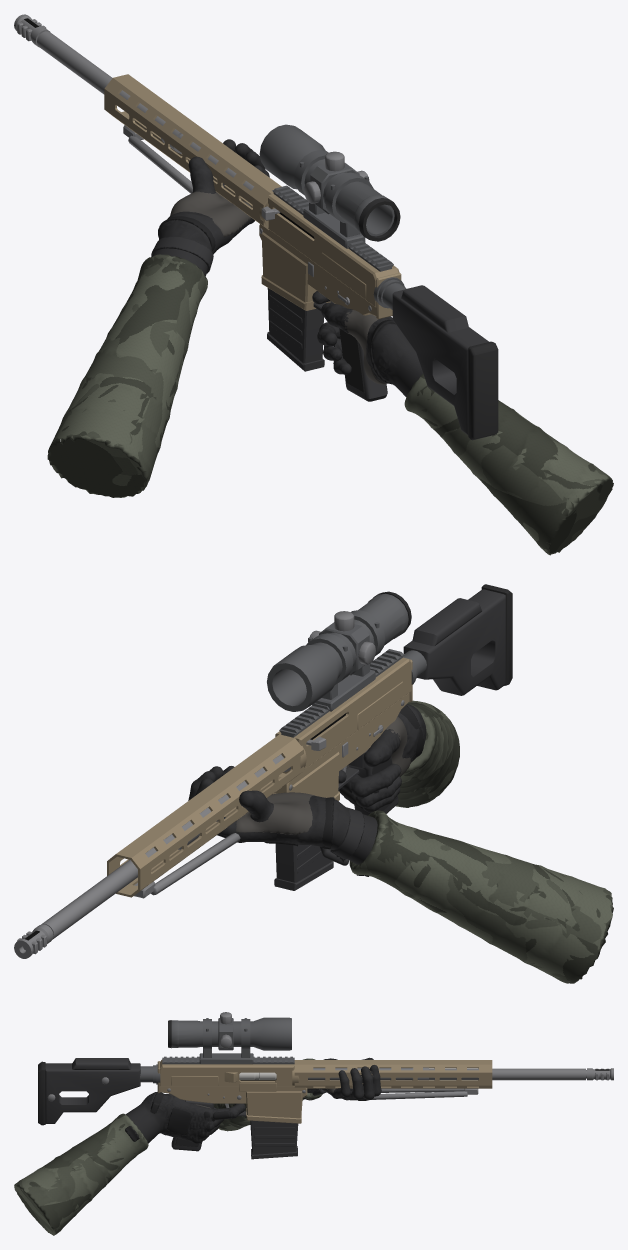
File: dmr.glb
3 views of the same model, one above another, from view 1: azimuth 30°, elevation 25°; view 2: azimuth 150°, elevation 25°; view 3: azimuth 270°, elevation 25° (orthographic). The views are drawn at different scales.
Parts seen in each view (by area): view 1: body, arm_l, arm_r, mag; view 2: body, arm_l, arm_r, mag; view 3: body, arm_r, arm_l, mag.
Part boxes in pixels (<box>): body: <box>14,14,498,440</box>; arm_l: <box>47,139,269,497</box>; arm_r: <box>312,291,613,555</box>; mag: <box>267,288,324,371</box>; body: <box>14,584,512,958</box>; arm_l: <box>188,766,613,983</box>; arm_r: <box>338,700,459,812</box>; mag: <box>274,843,333,890</box>; body: <box>38,1012,613,1151</box>; arm_r: <box>14,1092,245,1235</box>; arm_l: <box>214,1057,381,1131</box>; mag: <box>250,1120,298,1159</box>.
Size of the model in its own units: 0.5222 by 0.3902 by 1.09.
15 materials, 2 textured.
